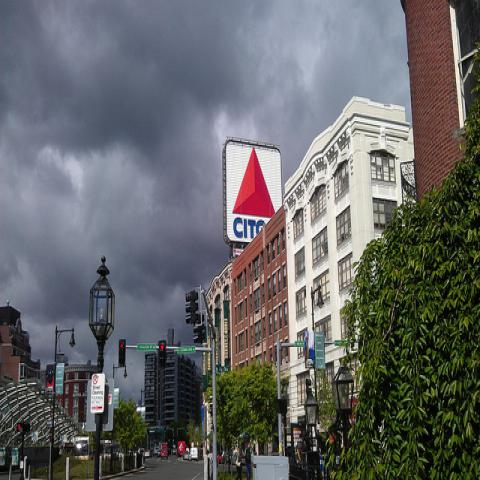car: (151, 446, 160, 456), (144, 449, 152, 458), (217, 452, 222, 464), (183, 451, 189, 460)
truck: (188, 446, 199, 462)
